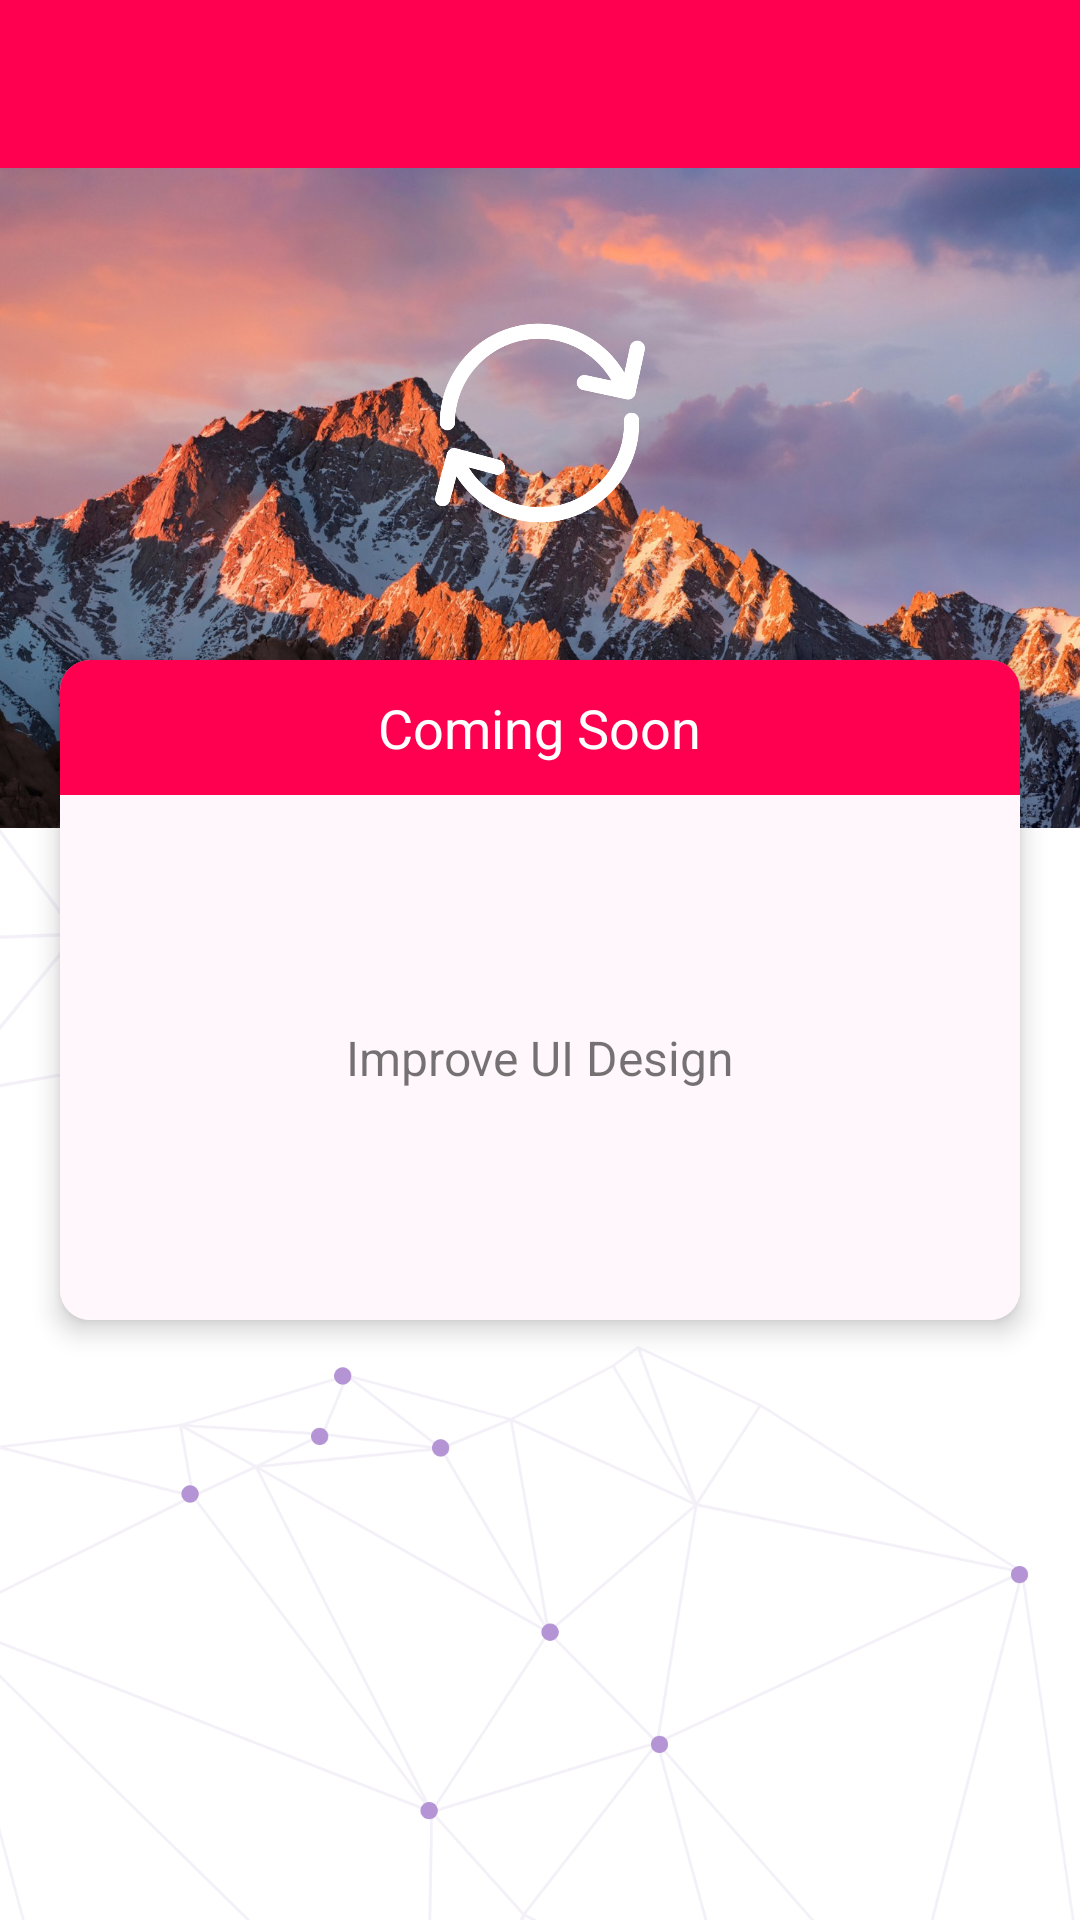

Point at icon controls on the screen. Image size 1080 x 1920, points as (x,y).
updateimage: (540,423)
